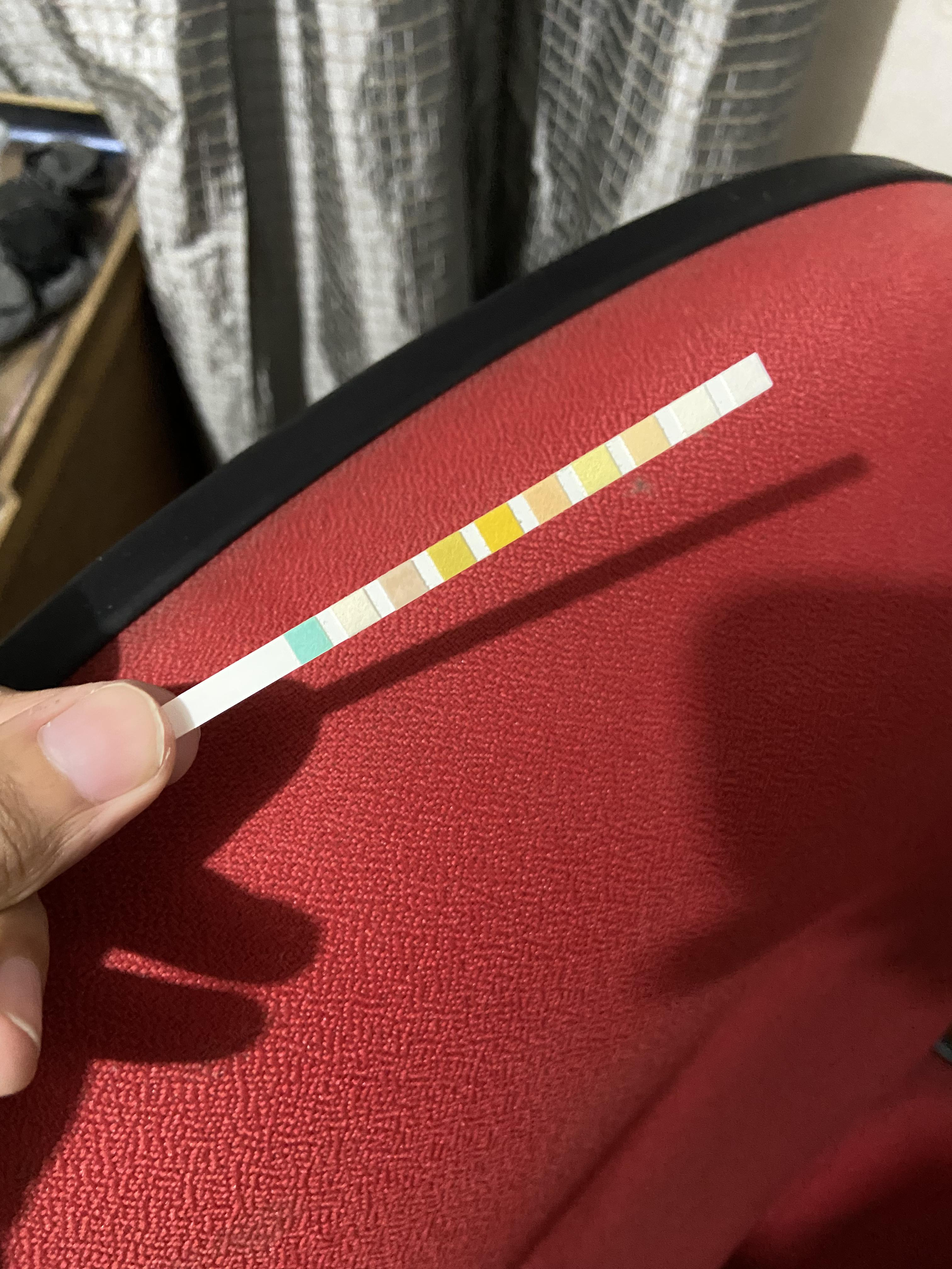Bilirubin: (343, 599, 370, 626)
Blood: (486, 513, 513, 542)
Glucose: (294, 627, 323, 654)
Ketone: (390, 571, 417, 598)
Leukocytes: (734, 365, 763, 393)
Nitrite: (681, 396, 711, 423)
Protein: (583, 456, 612, 482)
SpGravity: (439, 541, 466, 569)
Urobilinogen: (631, 426, 661, 454)
pH: (535, 485, 561, 514)
strip: (174, 351, 774, 732)
